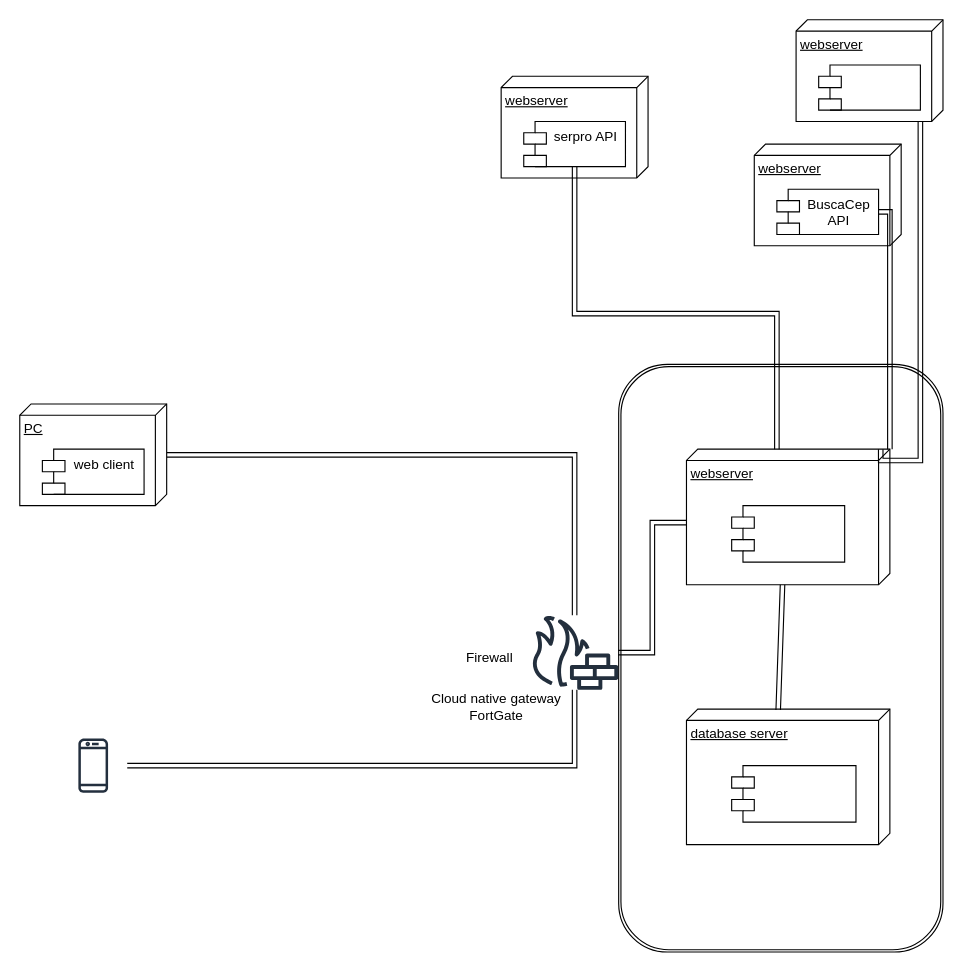
This 963x972 diagram has some shape labels left out. Here are the shapes that lost their labels. From the top down, the centre of each, then its label:
the point at 869,87: viaCEP API
the point at 788,533: APACHE
the point at 92,765: Mobile client
the point at 793,793: MySQL
